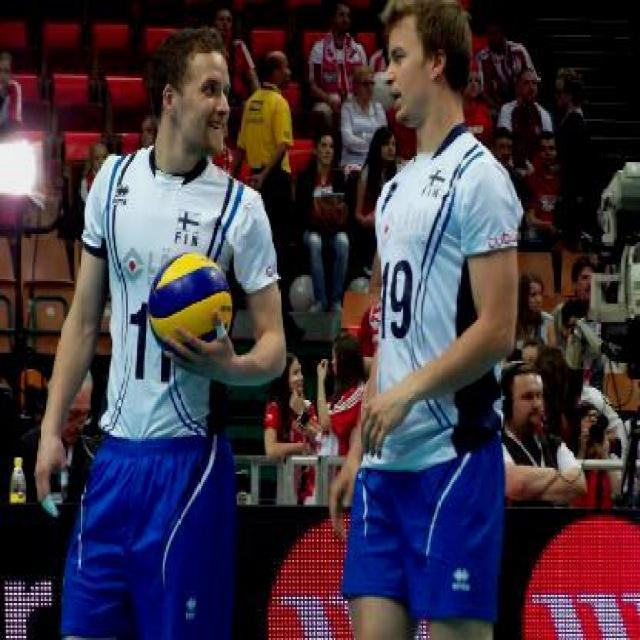volleyball: (147, 251, 235, 353)
